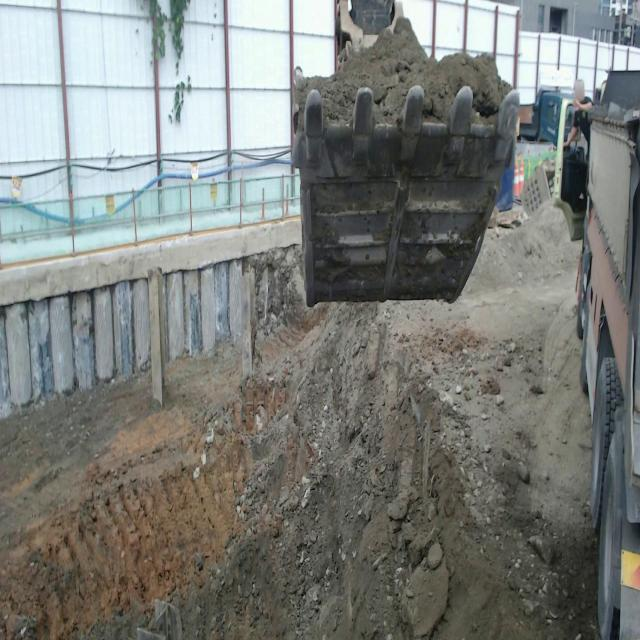red-sand: (0, 305, 580, 639), (296, 18, 510, 124)
